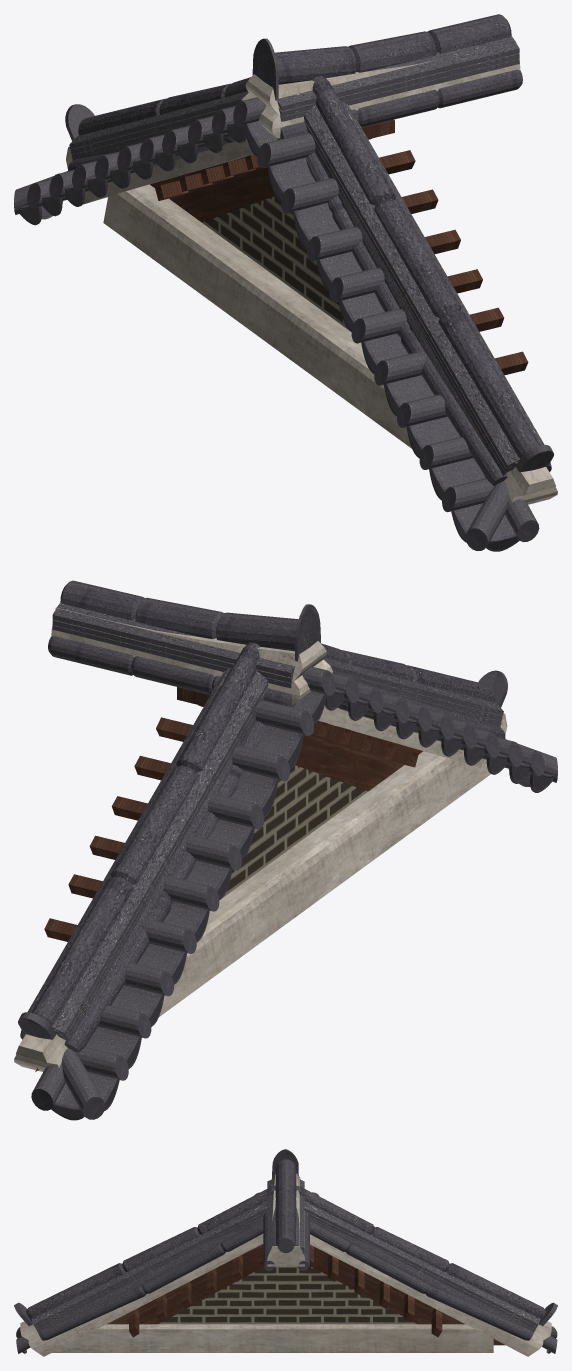
The model's file is SM_R_RoofOuter_23.fbx.
3 views of the same model, one above another, from view 1: azimuth 30°, elevation 25°; view 2: azimuth 150°, elevation 25°; view 3: azimuth 270°, elevation 25° (orthographic). The views are drawn at different scales.
Visible parts, largest first — view 1: SM_R_RoofOuter_23; view 2: SM_R_RoofOuter_23; view 3: SM_R_RoofOuter_23.
Part boxes in pixels (bbox=[...]): SM_R_RoofOuter_23: bbox=[14, 14, 557, 551]; SM_R_RoofOuter_23: bbox=[14, 580, 557, 1120]; SM_R_RoofOuter_23: bbox=[14, 1149, 557, 1356].
Bounding box in the file's own units: 188 × 577 × 235.
4 materials, 4 textured.
